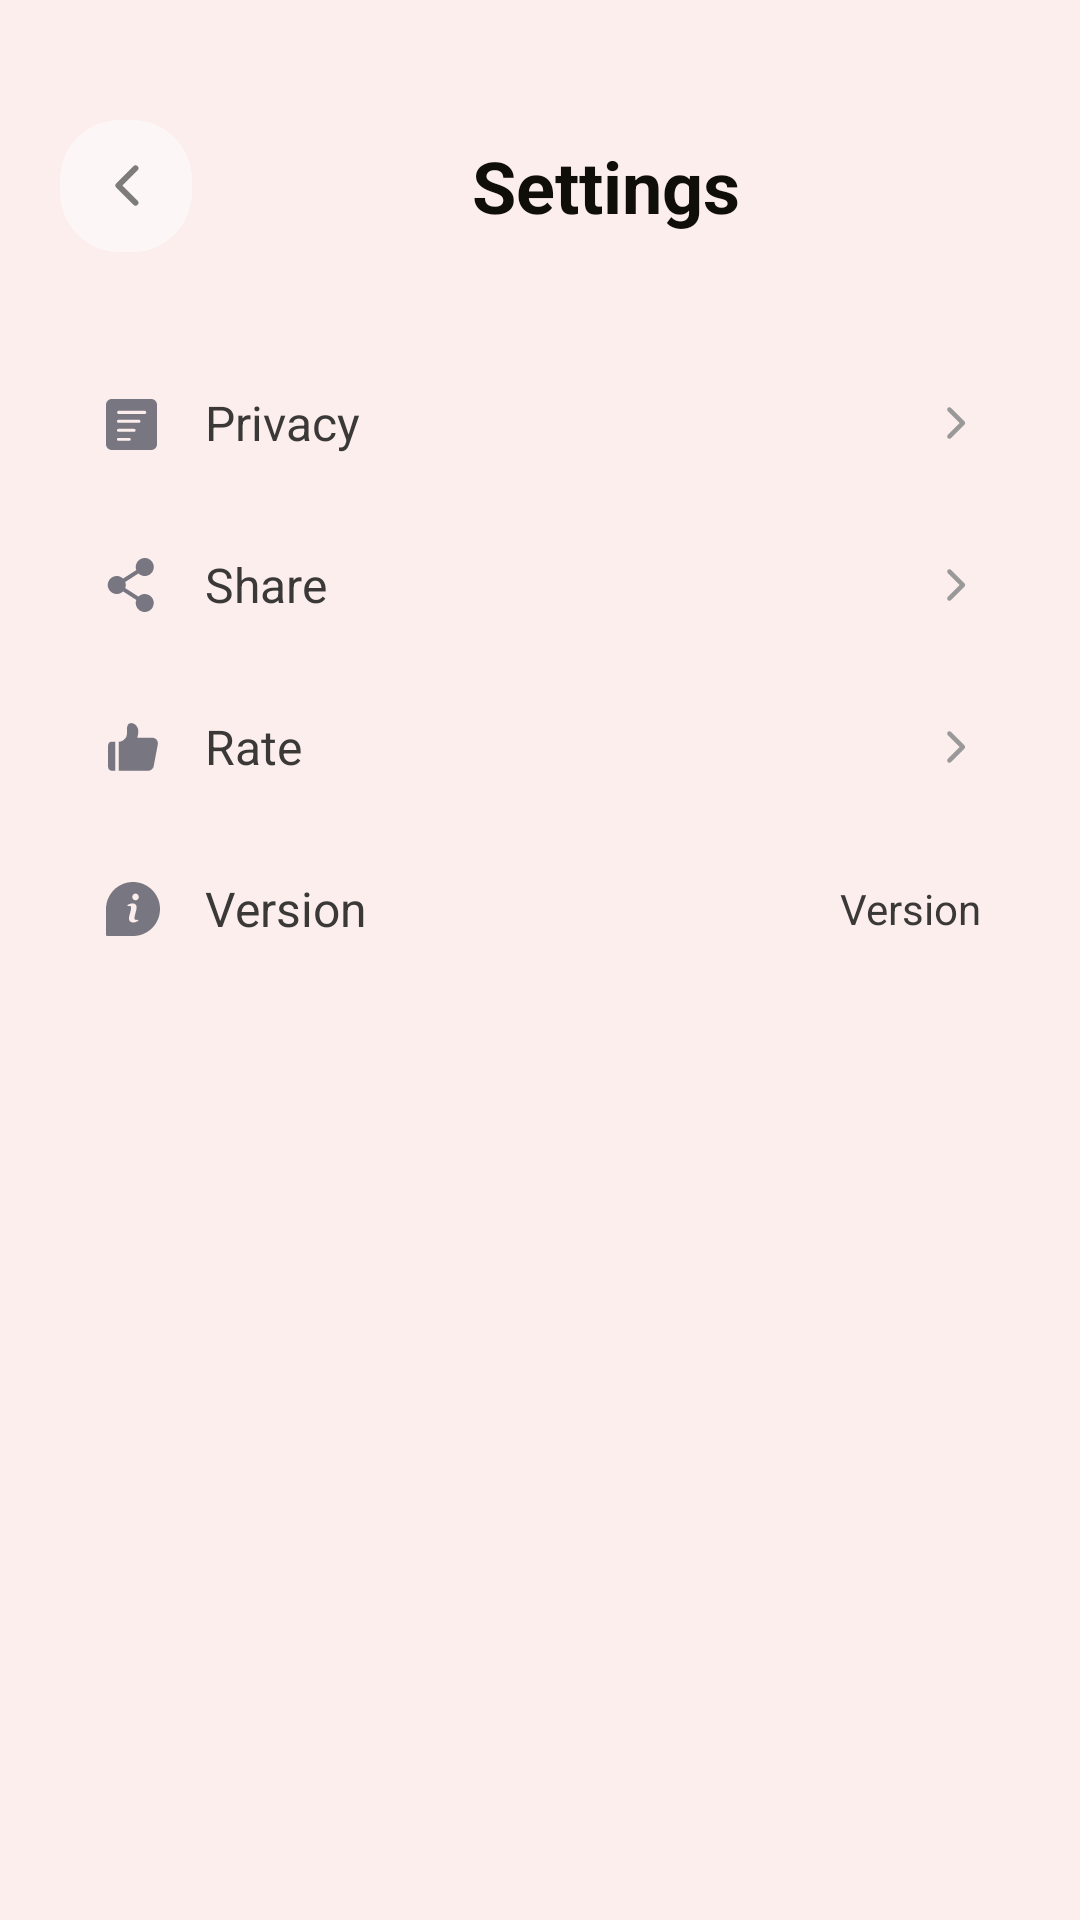

Icons on this 1080 × 1920 Android screen, each with the point to tap as point (x, y):
about: point (133, 909)
back: point (127, 185)
right: point (956, 423), point (956, 585), point (956, 747)
